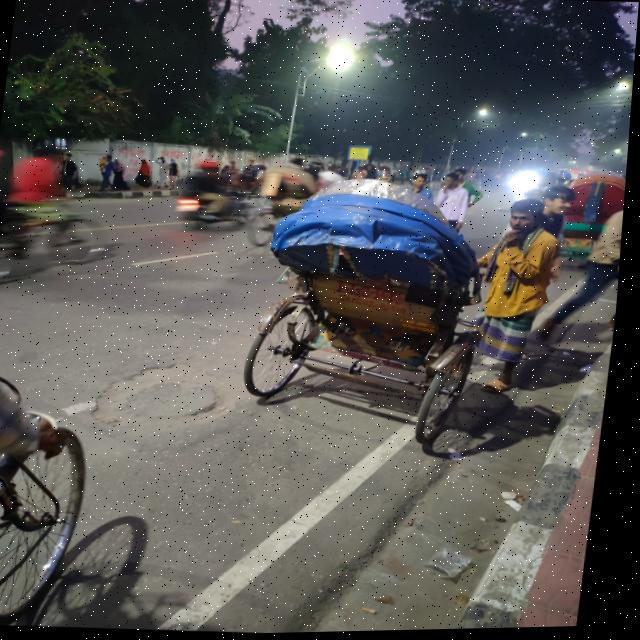rikshaw: (213, 146, 540, 468)
